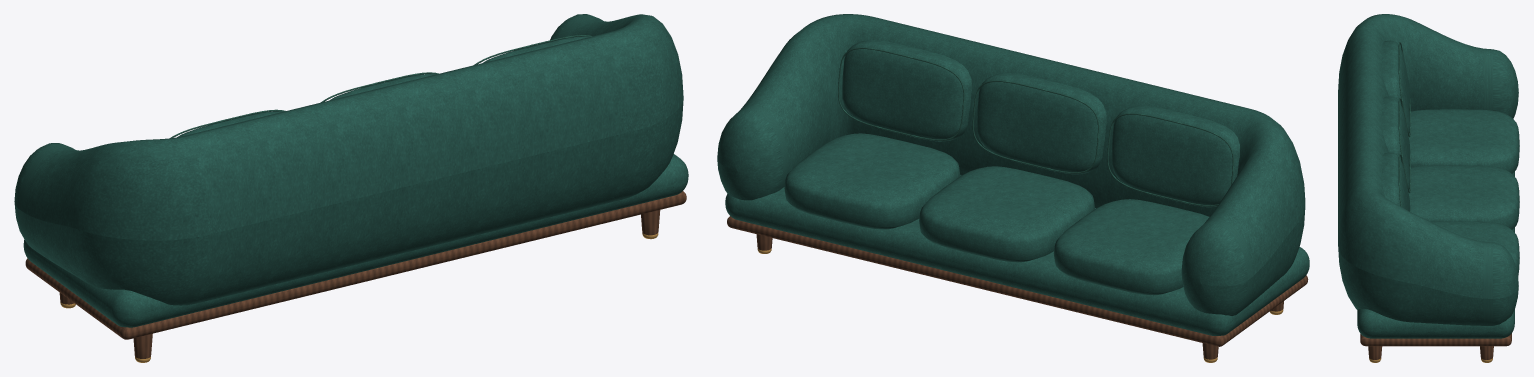
File: sofa.glb
3 views of the same model, side by side, from view 1: azimuth 30°, elevation 25°; view 2: azimuth 150°, elevation 25°; view 3: azimuth 270°, elevation 25° (orthographic). The views are drawn at different scales.
Parts seen in each view (by area): view 1: UpholsteryShell, LowerUpholstery, WalnutApron; view 2: UpholsteryShell, LowerUpholstery, SeatCushion3, SeatCushion2, SeatCushion1, BackCushion3, BackCushion2, BackCushion1, WalnutApron, BackCushion2Welt, BackCushion3Welt, BackCushion1Welt; view 3: UpholsteryShell, SeatCushion1, SeatCushion2, LowerUpholstery, SeatCushion3, BackCushion1, BackCushion2, WalnutApron, BackCushion3, BackCushion2Welt, BackCushion1Welt, TaperedLeg3 (+1 smaller).
Boxes of the visible parts, box(x1,y1,x2,y2) form: UpholsteryShell: box(14, 14, 683, 305); LowerUpholstery: box(23, 154, 688, 327); WalnutApron: box(25, 191, 686, 339); UpholsteryShell: box(717, 14, 1305, 315); LowerUpholstery: box(725, 175, 1309, 335); SeatCushion3: box(784, 133, 960, 229); SeatCushion2: box(919, 166, 1094, 262); SeatCushion1: box(1053, 199, 1209, 295); BackCushion3: box(842, 40, 972, 141); BackCushion2: box(977, 73, 1106, 174); BackCushion1: box(1111, 105, 1239, 207); WalnutApron: box(727, 216, 1308, 346); BackCushion2Welt: box(972, 80, 1099, 173); BackCushion3Welt: box(838, 47, 964, 140); BackCushion1Welt: box(1107, 113, 1233, 206); UpholsteryShell: box(1338, 14, 1518, 325); SeatCushion1: box(1408, 109, 1519, 173); SeatCushion2: box(1408, 165, 1519, 229); LowerUpholstery: box(1357, 171, 1514, 338); SeatCushion3: box(1431, 221, 1519, 276); BackCushion1: box(1382, 40, 1410, 133); BackCushion2: box(1382, 96, 1410, 189); WalnutApron: box(1360, 333, 1511, 346); BackCushion3: box(1382, 152, 1410, 211); BackCushion2Welt: box(1398, 98, 1410, 193); BackCushion1Welt: box(1398, 42, 1410, 137); TaperedLeg3: box(1480, 346, 1493, 359).
Bounding box in the file's own units: 2.6 × 0.9 × 0.9107.
4 materials, 4 textured.
